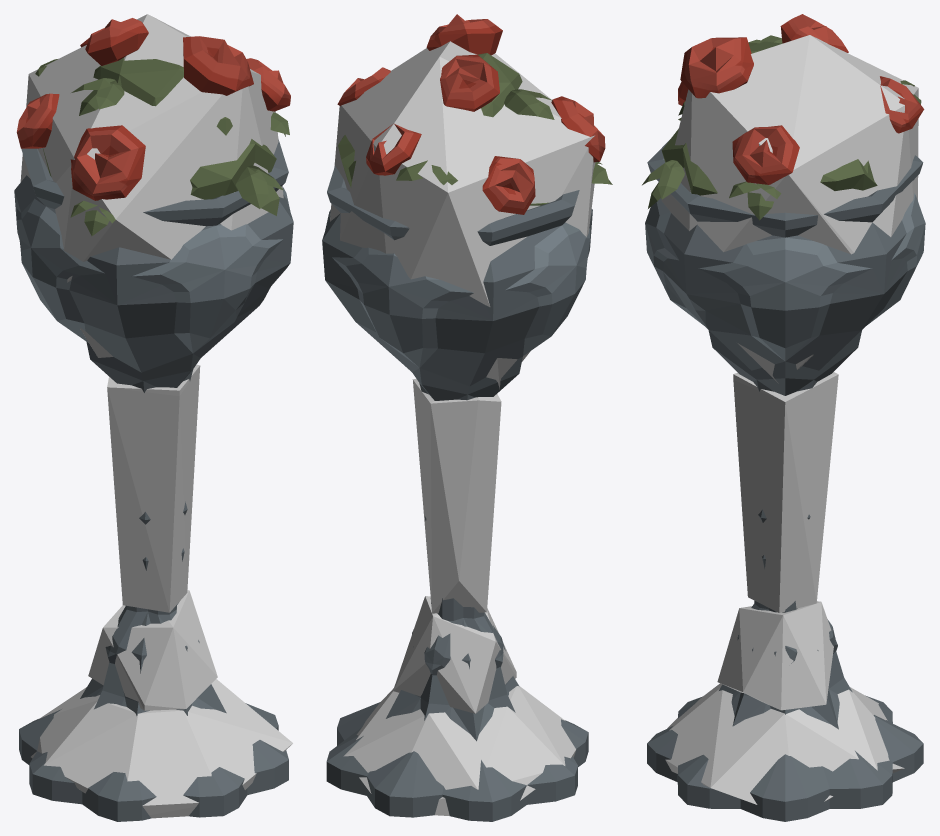
File: SM_Prop_Pot_Plant_02.fbx
3 renders of one model, left to right at view 1: azimuth 30°, elevation 25°; view 2: azimuth 150°, elevation 25°; view 3: azimuth 270°, elevation 25°, orthographic. The views are drawn at different scales.
Parts seen in each view (by area): view 1: SM_Prop_Pot_Plant_02_ConvexHulls, SM_Prop_Pot_Plant_02; view 2: SM_Prop_Pot_Plant_02_ConvexHulls, SM_Prop_Pot_Plant_02; view 3: SM_Prop_Pot_Plant_02_ConvexHulls, SM_Prop_Pot_Plant_02.
Boxes of the visible parts, box(x1,y1,x2,y2) form: SM_Prop_Pot_Plant_02_ConvexHulls: box(20, 14, 292, 818); SM_Prop_Pot_Plant_02: box(14, 18, 293, 821); SM_Prop_Pot_Plant_02_ConvexHulls: box(330, 41, 595, 815); SM_Prop_Pot_Plant_02: box(322, 14, 612, 821); SM_Prop_Pot_Plant_02_ConvexHulls: box(661, 35, 918, 804); SM_Prop_Pot_Plant_02: box(642, 14, 925, 821).
Size of the model in its own units: 63.14 by 63.63 by 181.
Materials: 2 (1 with a texture image).
